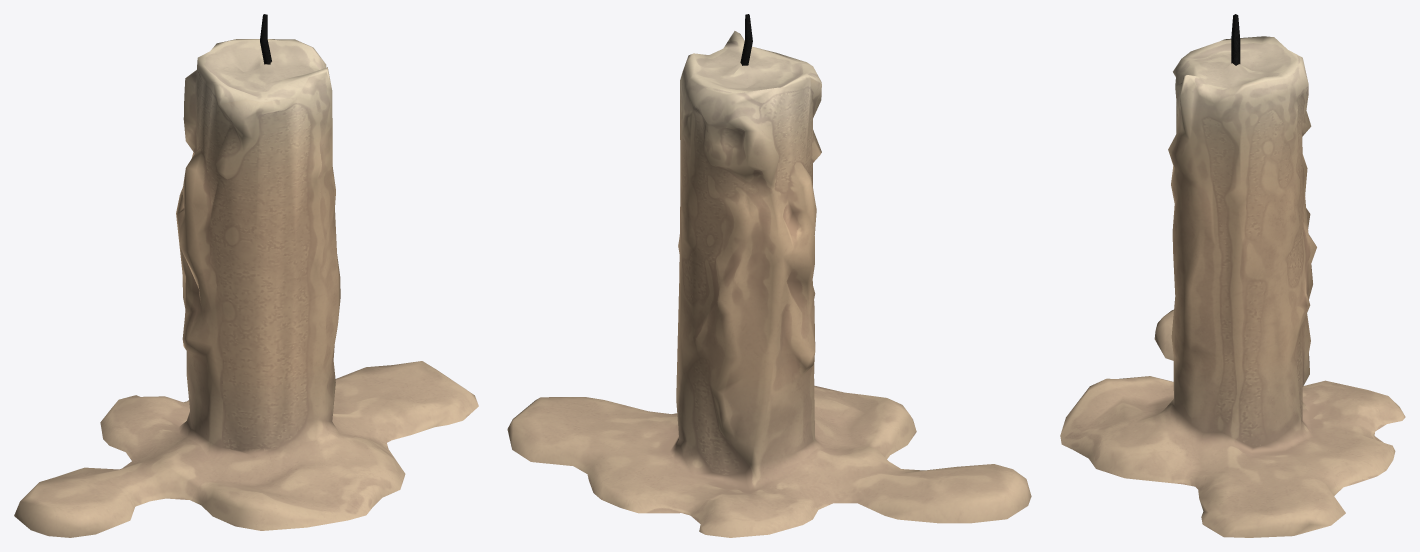
Rendered from SM_Candle_Fundida.FBX.
3 views of the same model, side by side, from view 1: azimuth 30°, elevation 25°; view 2: azimuth 150°, elevation 25°; view 3: azimuth 270°, elevation 25° (orthographic). The views are drawn at different scales.
Parts seen in each view (by area): view 1: SM_Candle_02; view 2: SM_Candle_02; view 3: SM_Candle_02.
Boxes of the visible parts, bbox=[...] form: SM_Candle_02: bbox=[14, 14, 478, 537]; SM_Candle_02: bbox=[507, 14, 1031, 537]; SM_Candle_02: bbox=[1060, 14, 1405, 537].
Bounding box in the file's own units: 39.9 × 35.86 × 26.47.
